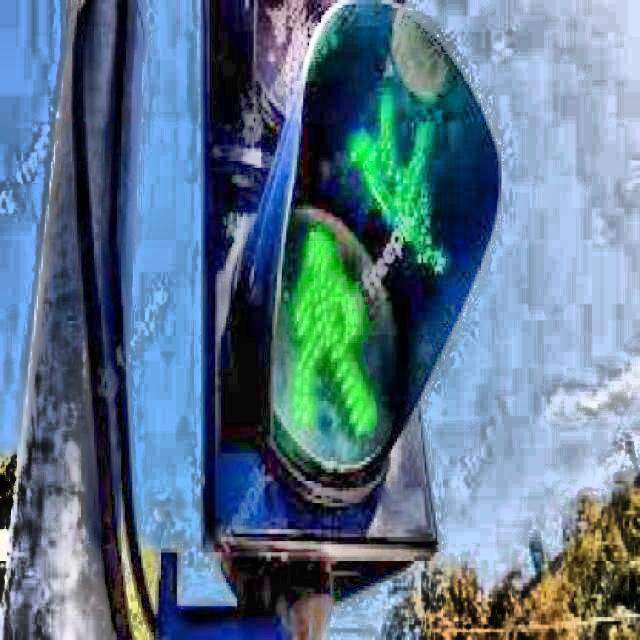semaforo pedestre: (138, 14, 482, 592)
